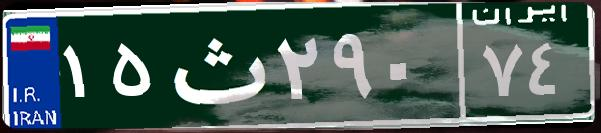0: (385, 28, 445, 110)
1: (57, 26, 110, 107)
2: (273, 28, 330, 110)
4: (525, 38, 570, 115)
5: (110, 28, 158, 105)
7: (475, 38, 525, 113)
9: (330, 28, 385, 110)
ث: (158, 15, 273, 115)
